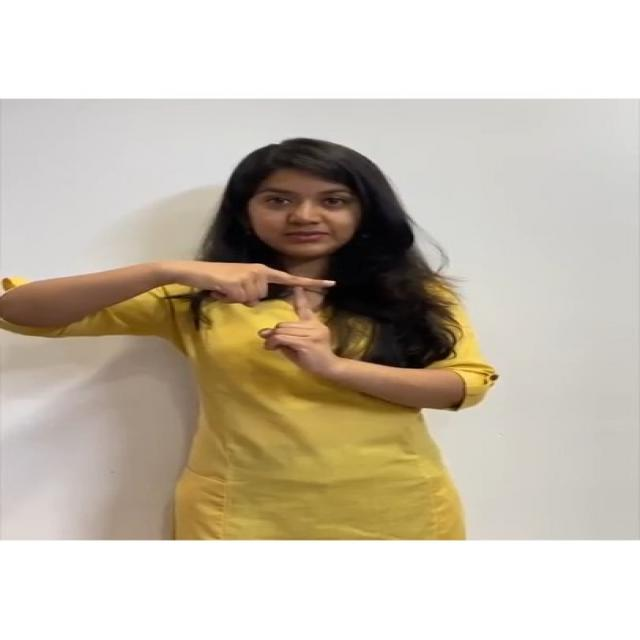T: (152, 253, 362, 394)
